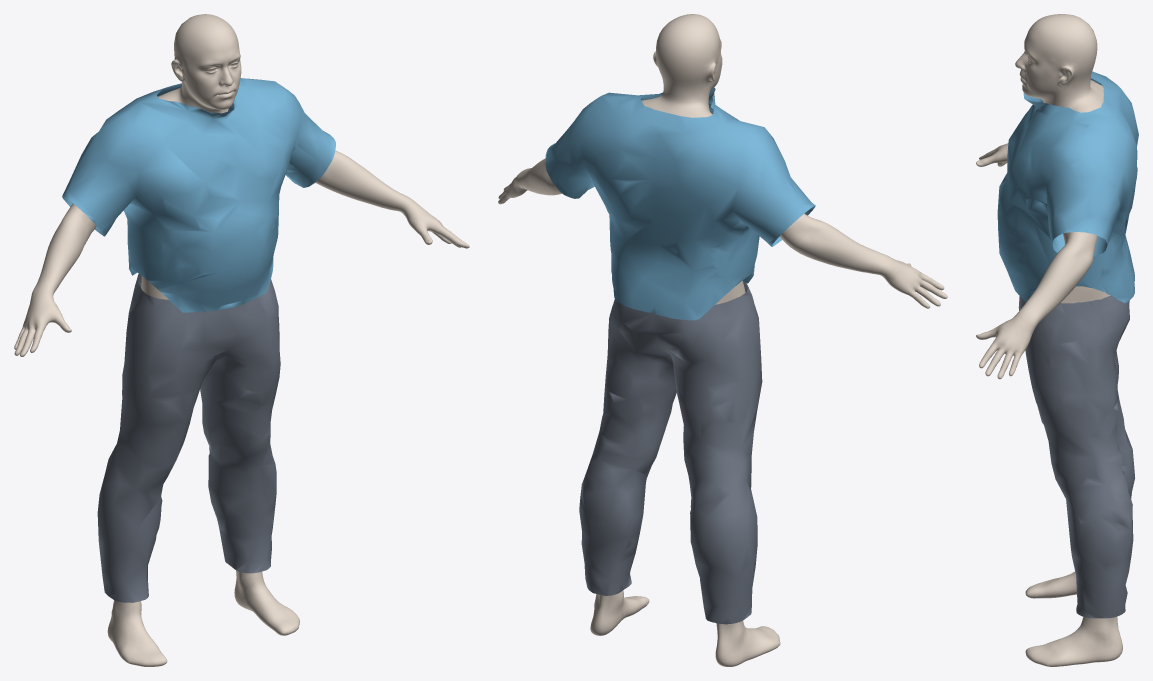
Rendered from rest.glb.
3 renders of one model, left to right at view 1: azimuth 30°, elevation 25°; view 2: azimuth 150°, elevation 25°; view 3: azimuth 270°, elevation 25°, orthographic.
Parts seen in each view (by area): view 1: shirt, pants, body; view 2: pants, shirt, body; view 3: pants, shirt, body.
Boxes of the visible parts, left/top/right/bottom form: shirt: left=62, top=78, right=335, bottom=312; pants: left=97, top=274, right=280, bottom=602; body: left=14, top=14, right=469, bottom=666; pants: left=579, top=280, right=762, bottom=624; shirt: left=545, top=87, right=815, bottom=320; body: left=498, top=14, right=947, bottom=666; pants: left=1018, top=295, right=1134, bottom=618; shirt: left=997, top=71, right=1138, bottom=302; body: left=976, top=14, right=1122, bottom=666.
Bounding box in the file's own units: 1.34 × 1.78 × 0.4298.
